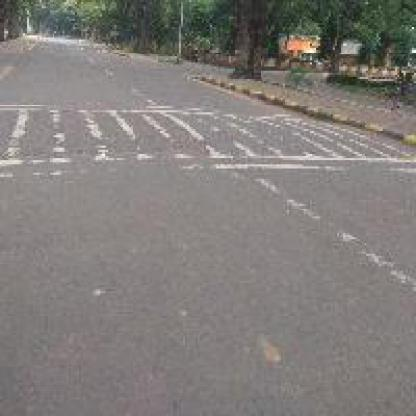Speed Bump: (0, 96, 414, 181)
